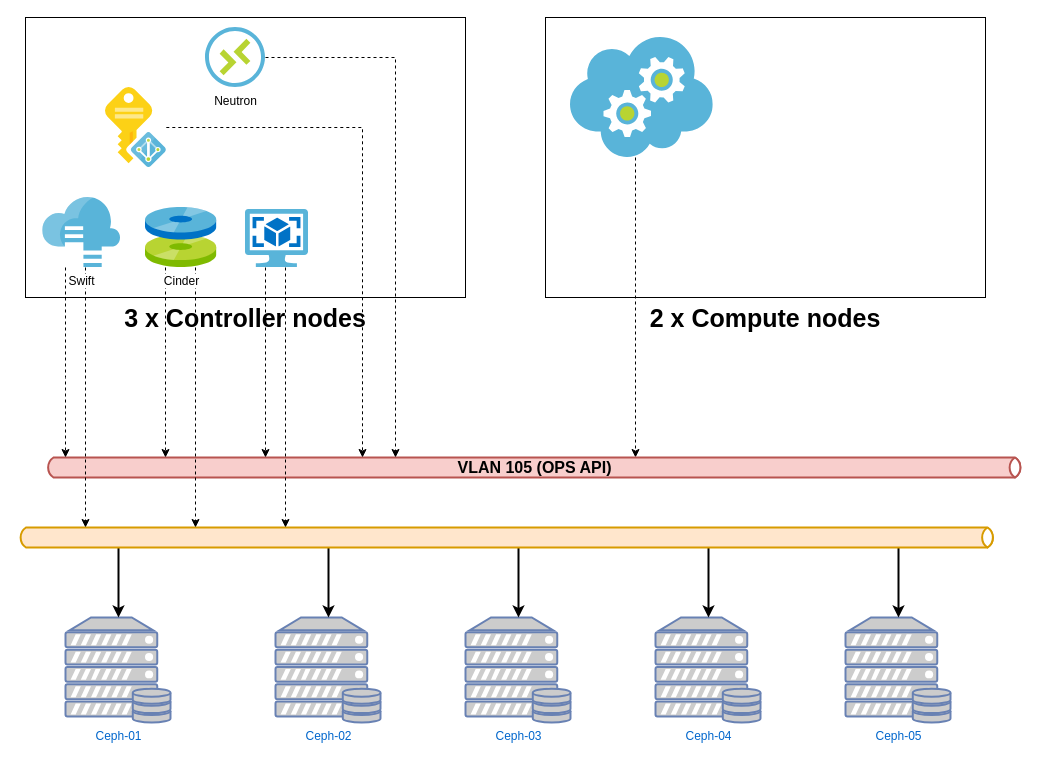
Image size: 1041x761. Some labels were removed from this diagram. Each missing label, with the centre of its shape:
Glance: [276,238]
Keystone: [135,127]
Nova: [641,97]
VLAN 106 (CEPH): [506,537]
